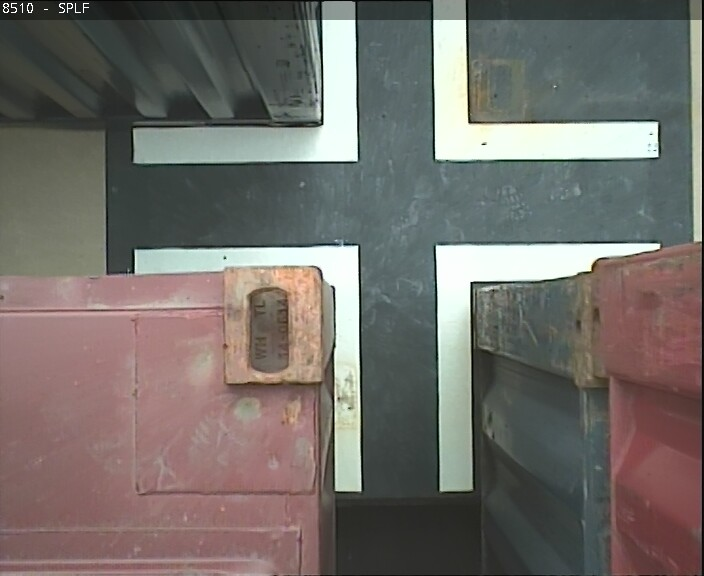groundmarker_1: (130, 247, 652, 489), (132, 1, 658, 158)
